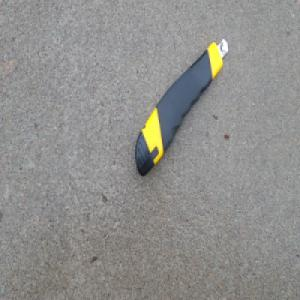Cutter: (135, 38, 228, 179)
